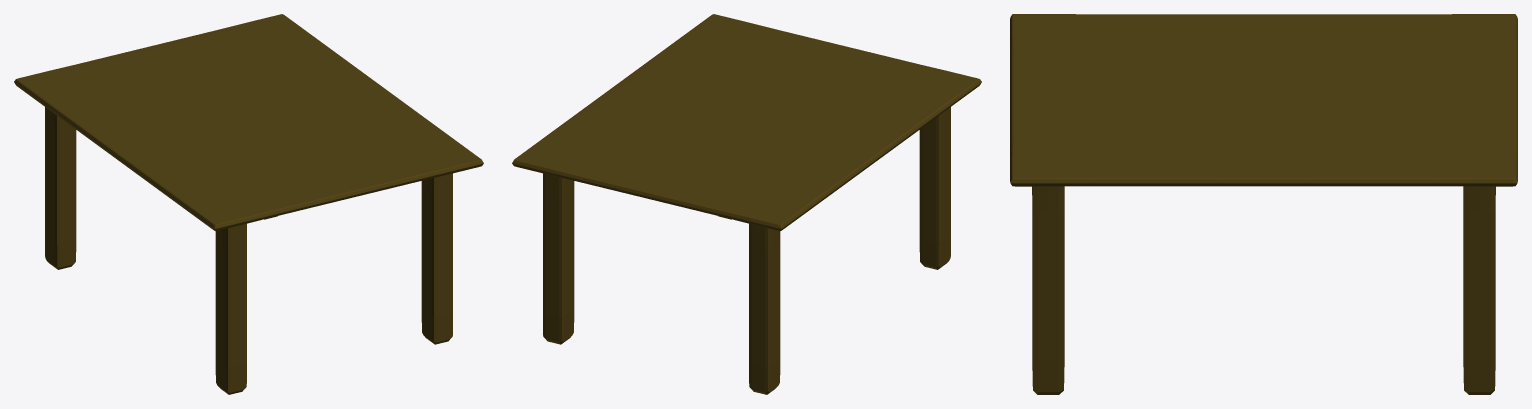
The model's file is table.fbx.
3 renders of one model, left to right at view 1: azimuth 30°, elevation 25°; view 2: azimuth 150°, elevation 25°; view 3: azimuth 270°, elevation 25°, orthographic. The views are drawn at different scales.
Parts seen in each view (by area): view 1: Table; view 2: Table; view 3: Table.
Boxes of the visible parts, x1=… form: Table: x1=14, y1=14, x2=483, y2=394; Table: x1=512, y1=14, x2=981, y2=394; Table: x1=1010, y1=14, x2=1517, y2=394.
Size of the model in its own units: 121 by 78.65 by 156.
